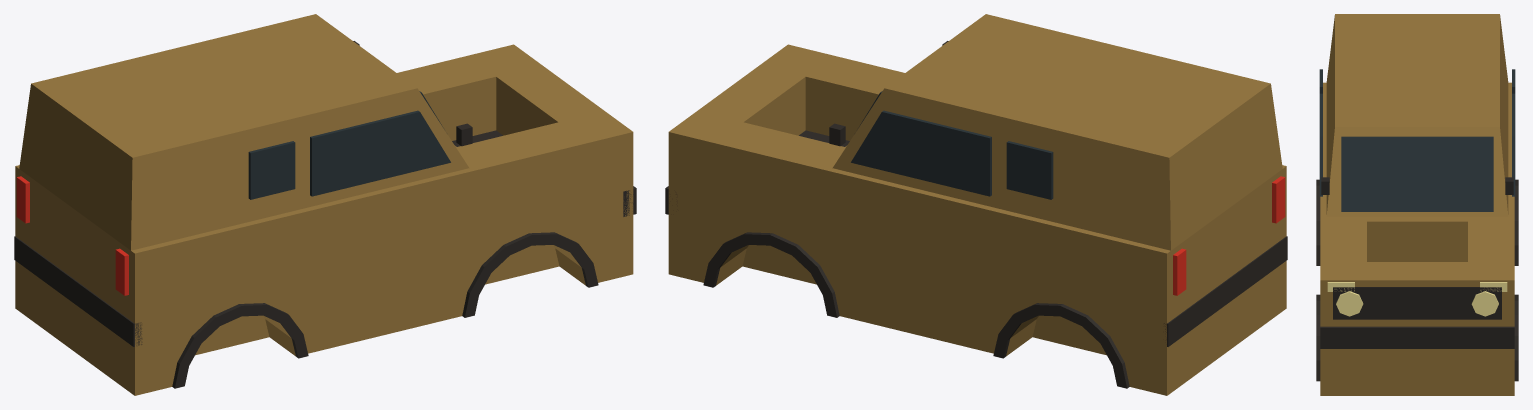
Rendered from base_niva.glb.
3 renders of one model, left to right at view 1: azimuth 30°, elevation 25°; view 2: azimuth 150°, elevation 25°; view 3: azimuth 270°, elevation 25°, orthographic. The views are drawn at different scales.
Visible parts, largest first — view 1: base_niva; view 2: base_niva; view 3: base_niva.
Part boxes in pixels (x1,y1,x2,y2): base_niva: (14,14,636,395); base_niva: (665,14,1287,395); base_niva: (1316,14,1518,395).
Size of the model in its own units: 4.54 by 1.97 by 1.94.
